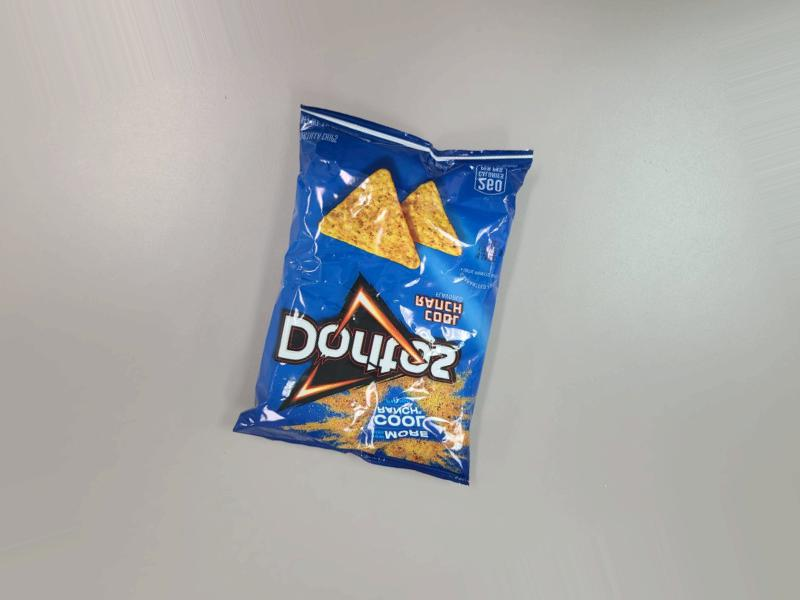doritos: (246, 98, 532, 496)
